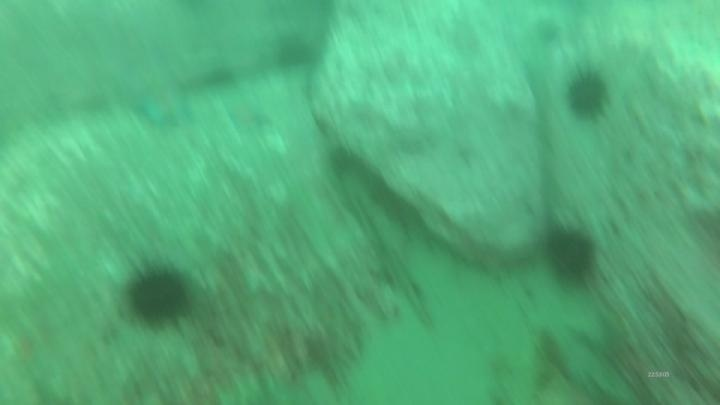echinus: (119, 258, 197, 331), (539, 220, 602, 287), (561, 66, 613, 125), (271, 31, 320, 73), (324, 142, 362, 181)
starfish: (130, 84, 198, 132), (219, 92, 273, 137)
